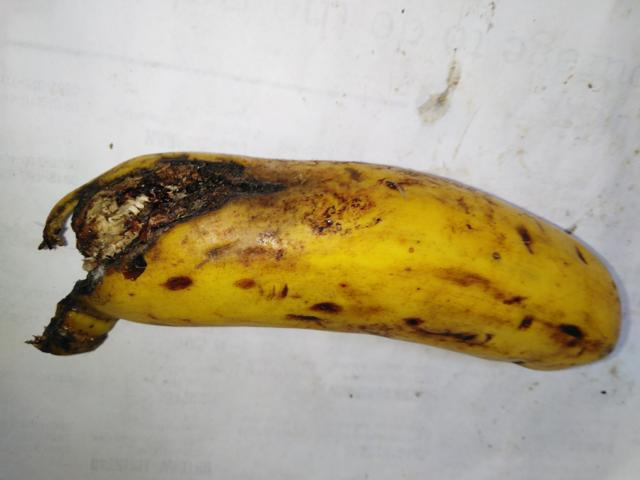rotten: (26, 112, 320, 370)
